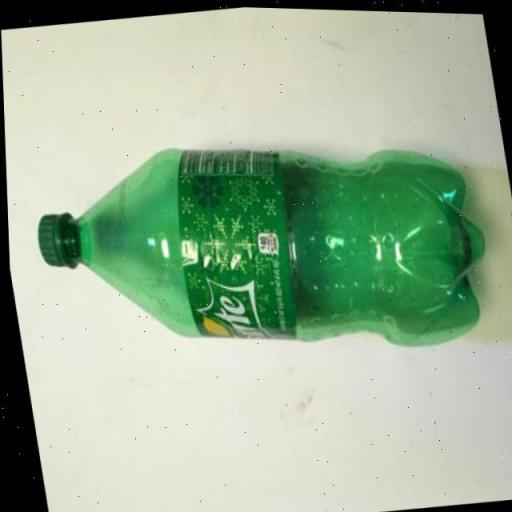plastic: (36, 147, 482, 342)
